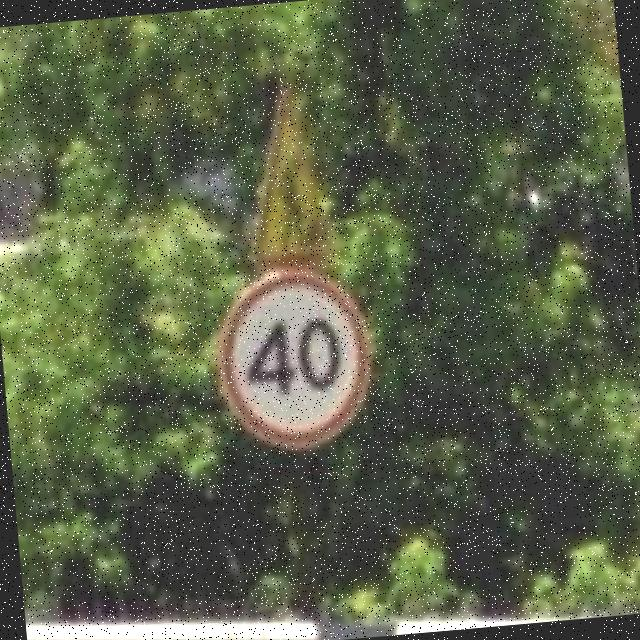Ograniczenie predkosci do 40: (210, 262, 378, 456)
